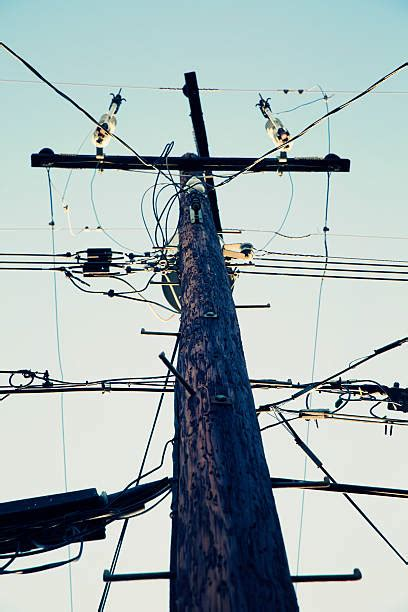pole: (5, 58, 408, 612)
